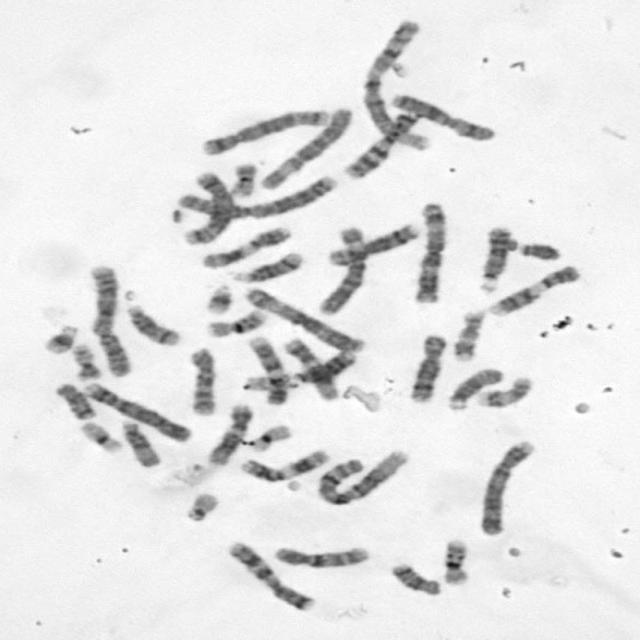A1: (356, 17, 433, 154), (312, 447, 411, 508)
A2: (169, 172, 340, 222), (85, 260, 133, 378)
A3: (240, 285, 366, 353), (409, 198, 448, 304)
B4: (79, 379, 194, 444), (474, 436, 539, 538)
B5: (197, 105, 334, 156), (180, 168, 235, 246)
C10: (268, 543, 373, 570), (183, 344, 220, 418)
C11: (198, 223, 294, 270), (237, 448, 331, 482)
C12: (280, 336, 339, 401), (203, 401, 255, 467)
C6: (255, 104, 356, 191), (312, 223, 369, 316)
C7: (224, 539, 318, 612), (339, 108, 424, 180)
C8: (324, 220, 422, 268), (405, 332, 449, 404)
C9: (484, 262, 583, 318), (244, 334, 290, 407)
D13: (473, 224, 515, 294), (288, 348, 359, 385)
D14: (123, 302, 183, 348), (228, 249, 306, 284)
D15: (442, 364, 504, 412), (118, 418, 164, 468)
E16: (202, 306, 268, 339), (438, 536, 471, 586)
E17: (474, 373, 536, 409), (448, 307, 486, 363)
E18: (388, 560, 443, 597), (51, 380, 97, 420)
F19: (76, 418, 125, 454), (246, 422, 294, 453)
F20: (68, 341, 102, 381), (227, 160, 259, 198)
G21: (40, 322, 80, 355), (202, 281, 234, 317)
G22: (181, 489, 221, 523), (238, 374, 294, 391)
X: (386, 91, 495, 142)
Y: (516, 239, 562, 261)
